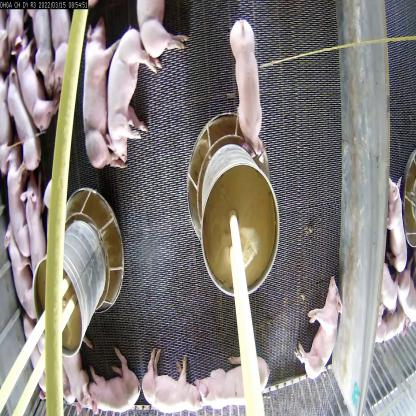Pig: (108, 30, 156, 156), (226, 14, 269, 154), (193, 356, 276, 416), (78, 16, 111, 160), (300, 277, 344, 374), (136, 350, 197, 415), (17, 38, 59, 127), (380, 173, 416, 270), (4, 69, 36, 168), (4, 137, 29, 255), (85, 359, 137, 415), (134, 0, 178, 60), (0, 228, 32, 307), (20, 174, 42, 264), (47, 15, 73, 82)
